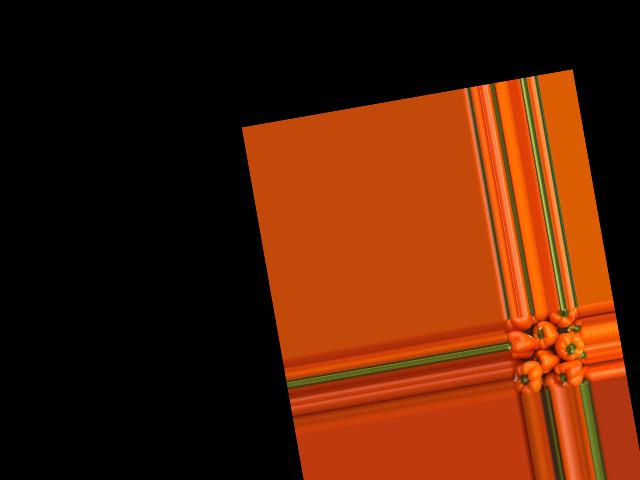bell_pepper: (501, 315, 534, 333)
